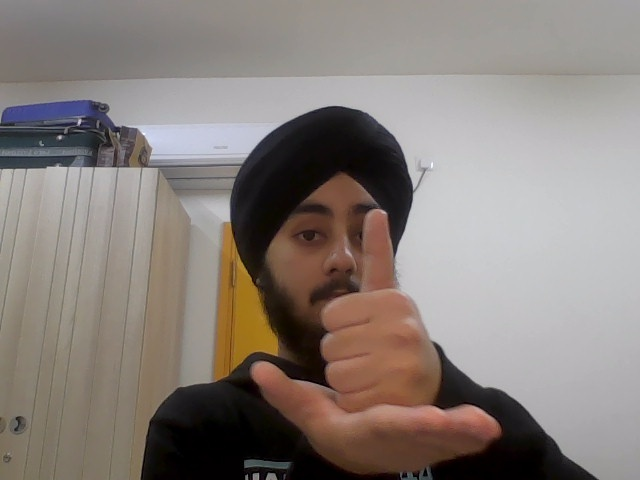Help: (250, 209, 502, 456)
